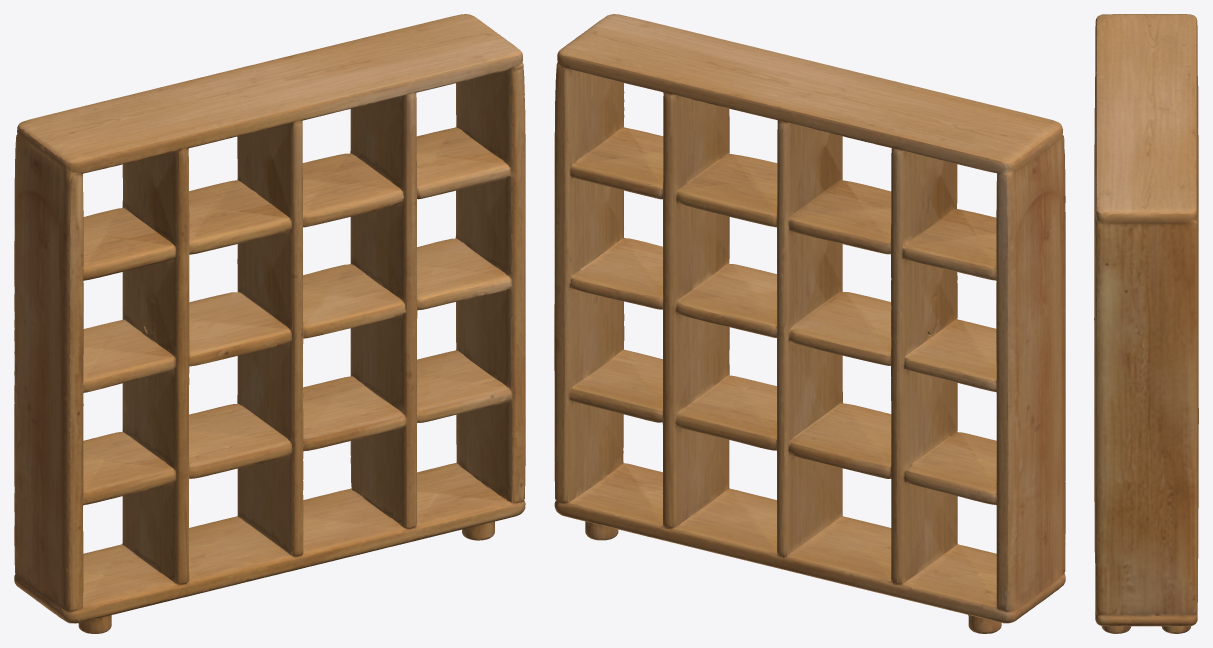
The model's file is collection-cabinet.glb.
3 views of the same model, side by side, from view 1: azimuth 30°, elevation 25°; view 2: azimuth 150°, elevation 25°; view 3: azimuth 270°, elevation 25° (orthographic). The views are drawn at different scales.
Visible parts, largest first — view 1: geometry_0; view 2: geometry_0; view 3: geometry_0.
Boxes of the visible parts, x1,y1,x2,y2 form: geometry_0: [14, 14, 525, 633]; geometry_0: [554, 14, 1065, 633]; geometry_0: [1094, 14, 1198, 633].
Bounding box in the file's own units: 0.6 × 0.5978 × 0.1307.
Materials: 1 (1 with a texture image).
